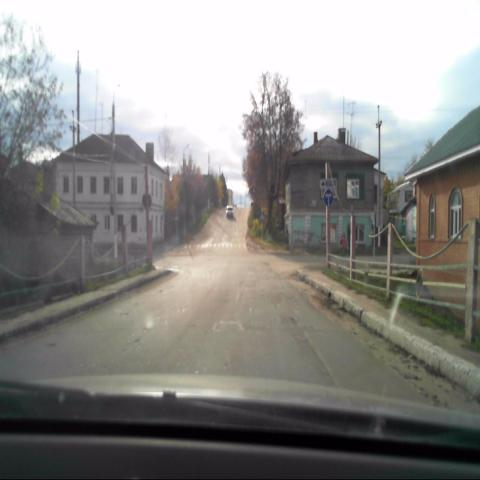4_1_6: (323, 189, 333, 207)
5_19_1: (259, 210, 265, 221)
